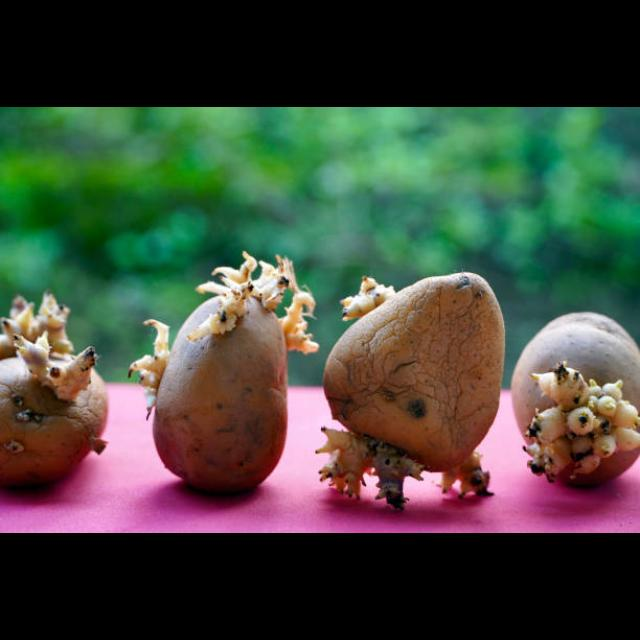Sprouted potato: (300, 252, 504, 514), (128, 237, 306, 501), (486, 287, 640, 493), (0, 286, 110, 499)
